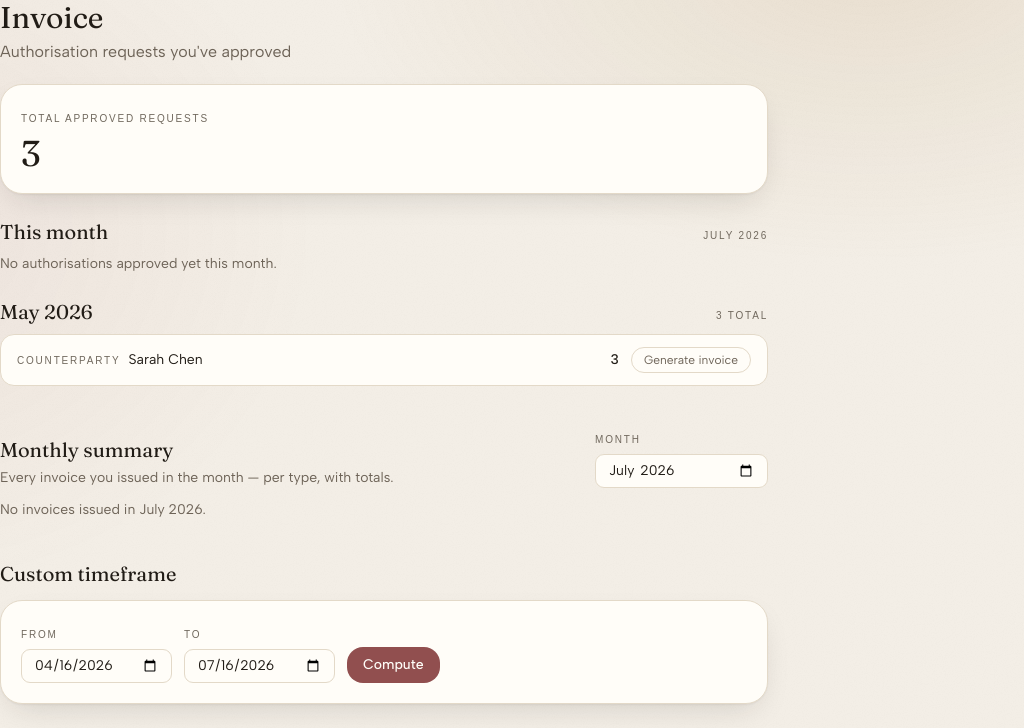
Billing — selective invoicing (16/07 enhancement 2) › lists each un-invoiced script with a checkbox, all selected by default
Click the button "Generate invoice": (691, 360) [631,347,751,373]
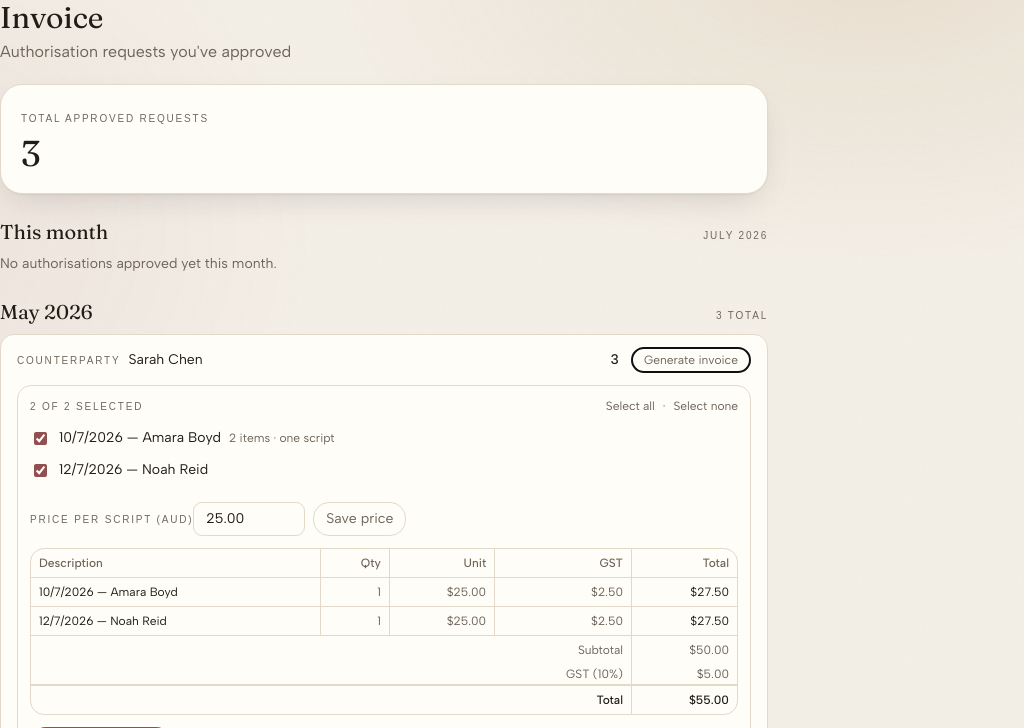
Now the number of checkboxes is 2, box [34,432,47,444]; [34,464,47,476]
Now the text "2 of 2 selected" is shown, box [30,399,143,414]
